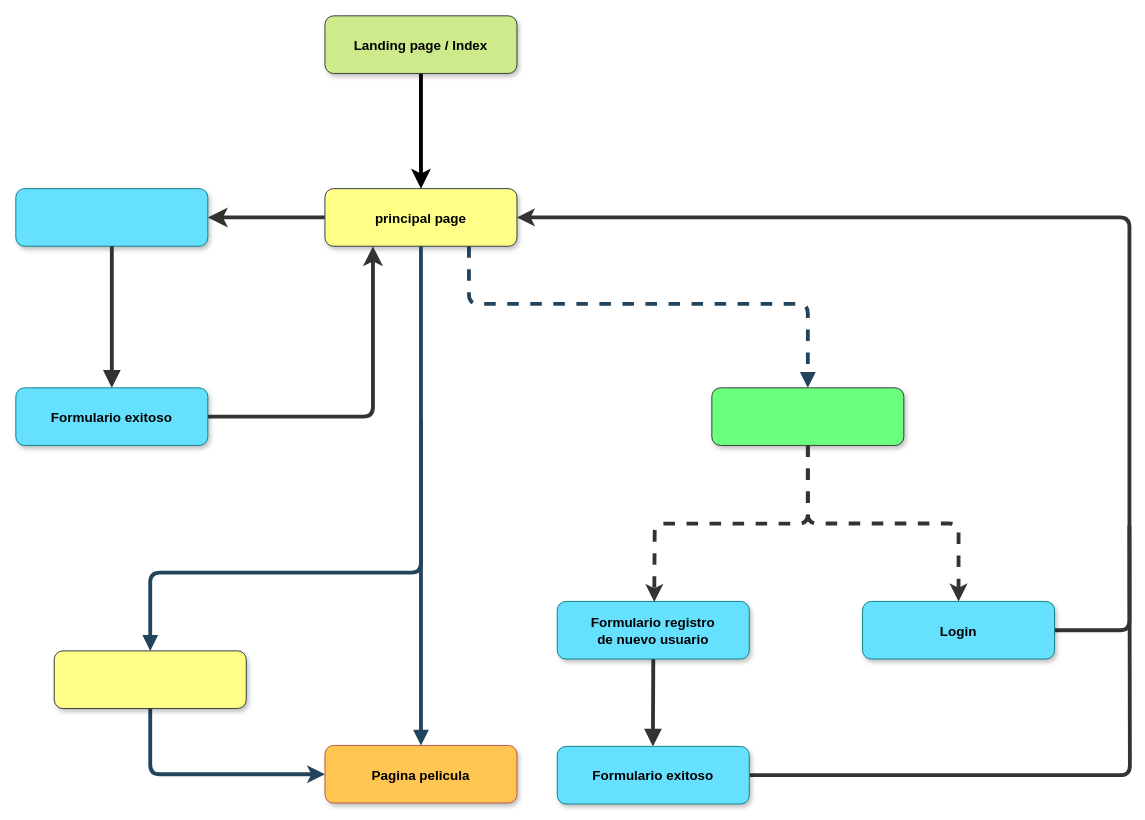
Some shapes in this 1145 by 820 pixel diagram are drawn without their labels. The shapes that lost their labels are listed below. From the top down, each one's centre as x and y in pixels, then its label:
At (x=112, y=218): "Formulario registro de nuevo pelicula".
At (x=808, y=417): "Ventana modal Login / Boton registro".
At (x=150, y=680): "Seccion genero".
